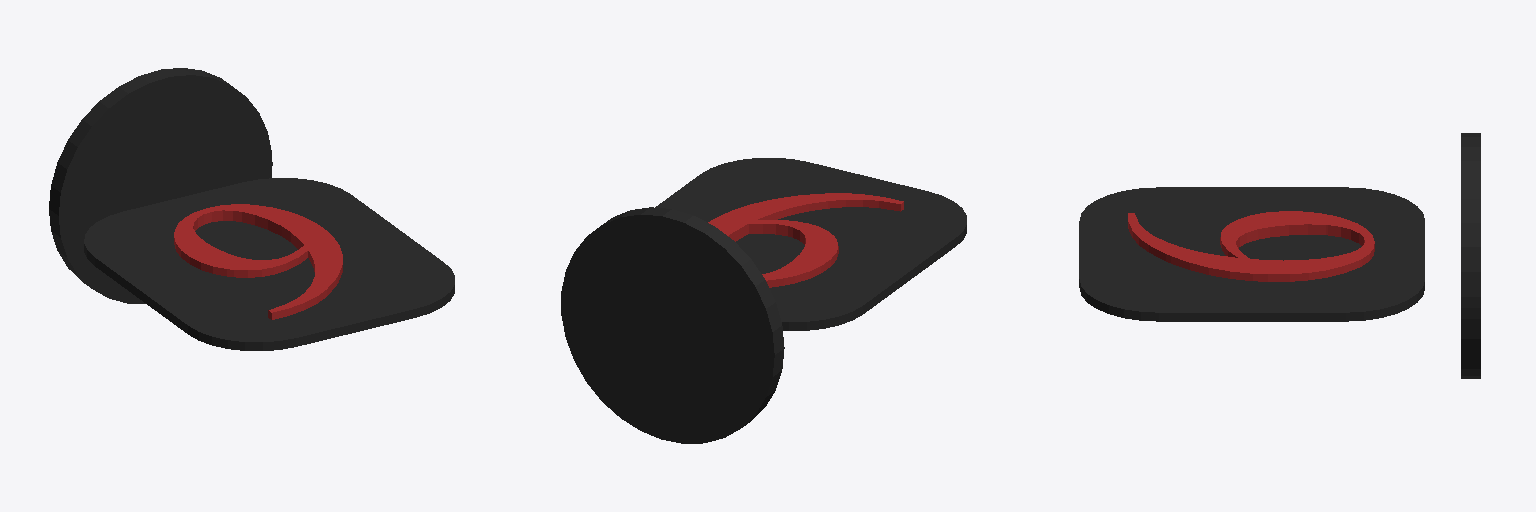
File: ART_GS000001287_A.obj
3 views of the same model, side by side, from view 1: azimuth 30°, elevation 25°; view 2: azimuth 150°, elevation 25°; view 3: azimuth 270°, elevation 25° (orthographic).
Visible parts, largest first — view 1: ART_GS[number redacted]_A; view 2: ART_GS[number redacted]_A; view 3: ART_GS[number redacted]_A.
Part boxes in pixels (x1,y1,x2,y2): ART_GS[number redacted]_A: (49,68,454,350); ART_GS[number redacted]_A: (561,158,966,443); ART_GS[number redacted]_A: (1079,133,1480,378).
Bounding box in the file's own units: 0.45 × 0.3745 × 0.6088.